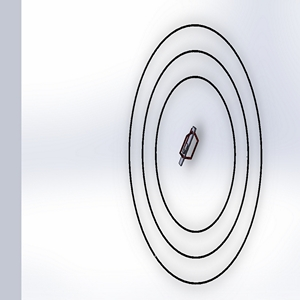circle: (117, 16, 270, 288)
submarine: (172, 119, 203, 168)
